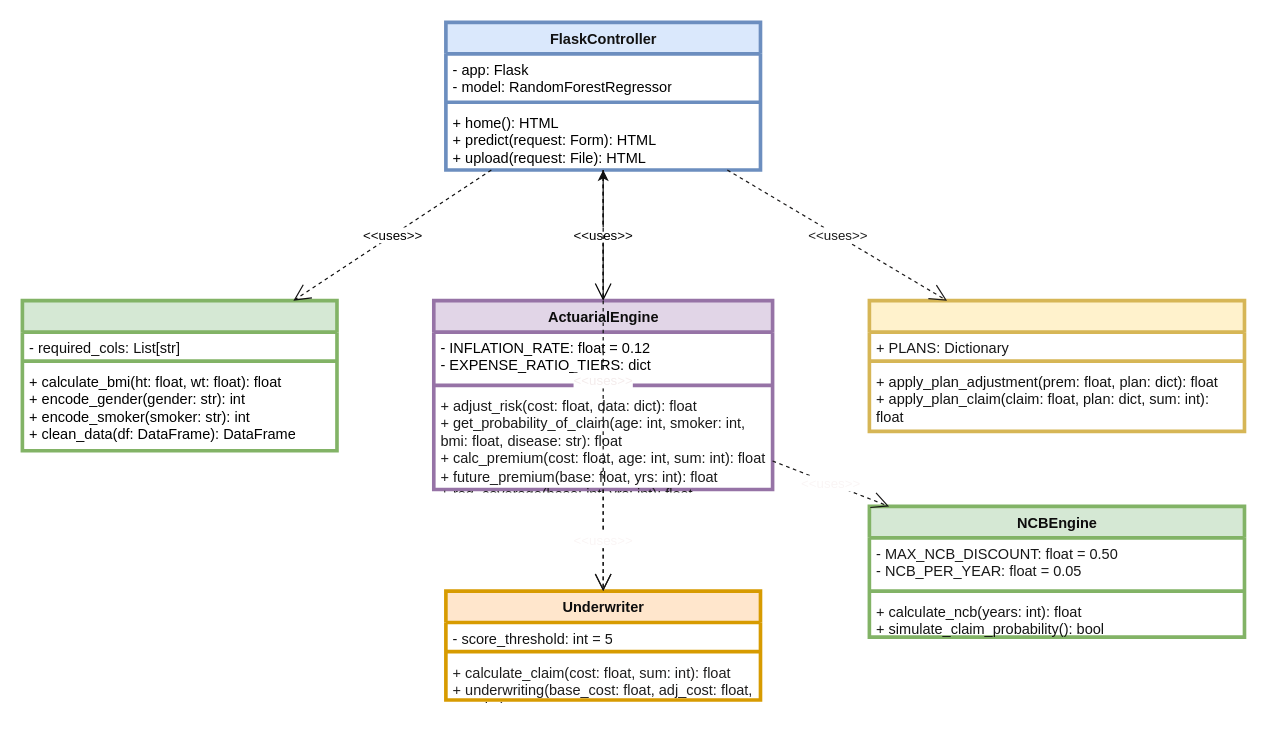
The diagram is 1267 pixels wide and 736 high, and some of its shapes have lost their labels. The shapes that lost their labels are listed below. From the top down, each one's box as (x1, y1, x2, y2) in pixels, then its label:
(20, 298, 338, 452): DataProcessor
(867, 298, 1246, 433): MultiPlanSystem
